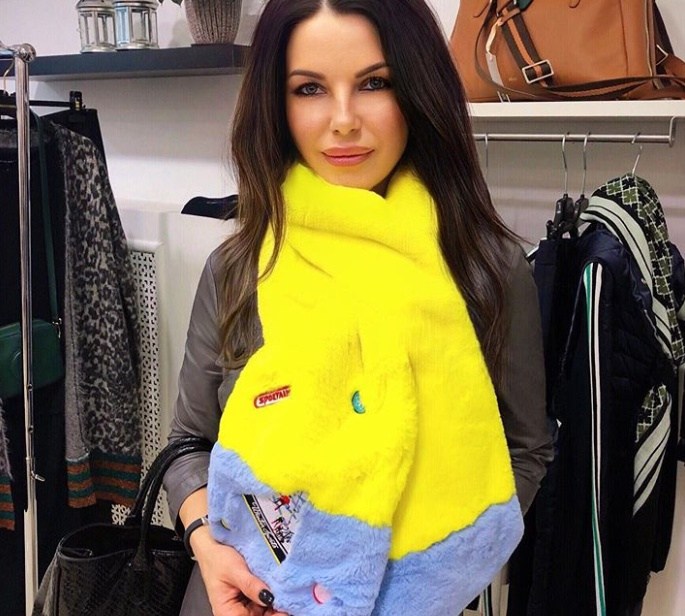mouth: (317, 145, 375, 170)
nose: (329, 118, 360, 135)
